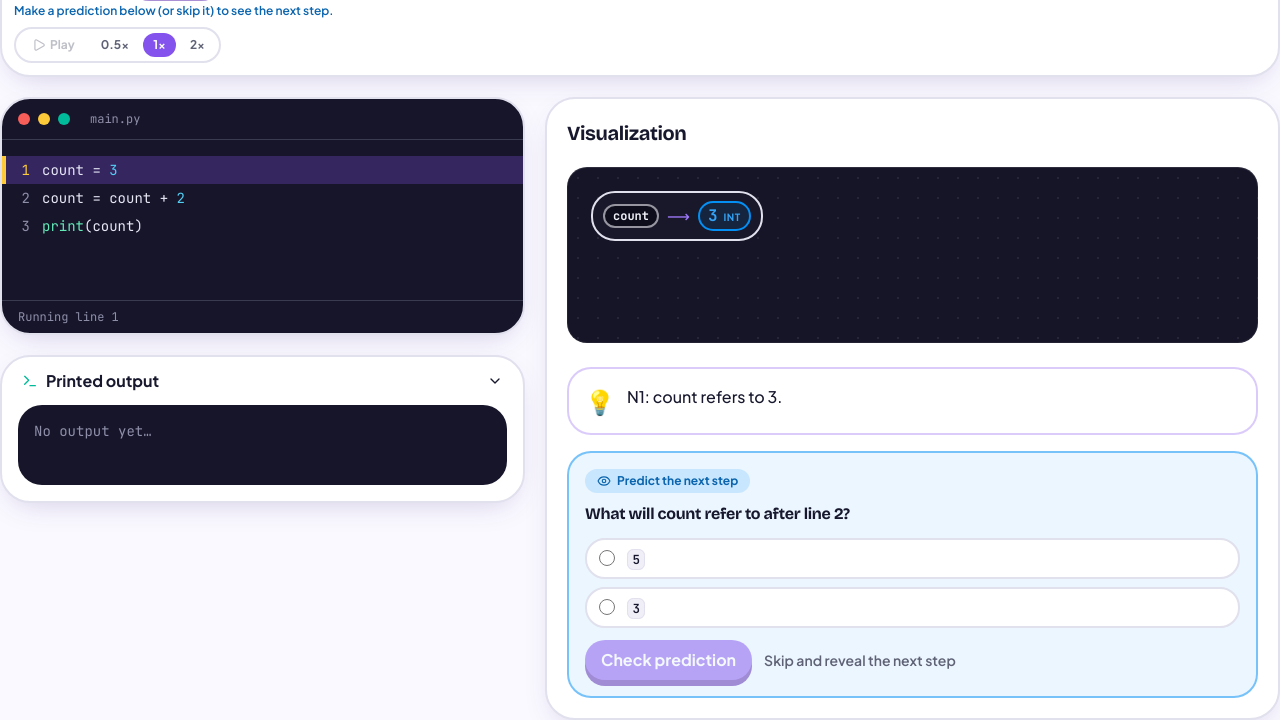
predictions inside a walkthrough › can be skipped deliberately, so nobody gets stuck
This screenshot has width=1280, height=720.
(page scrolled)
Click the button "Skip and reveal the next step".
click(860, 660)  # box [764,650,956,670]
(page scrolled)
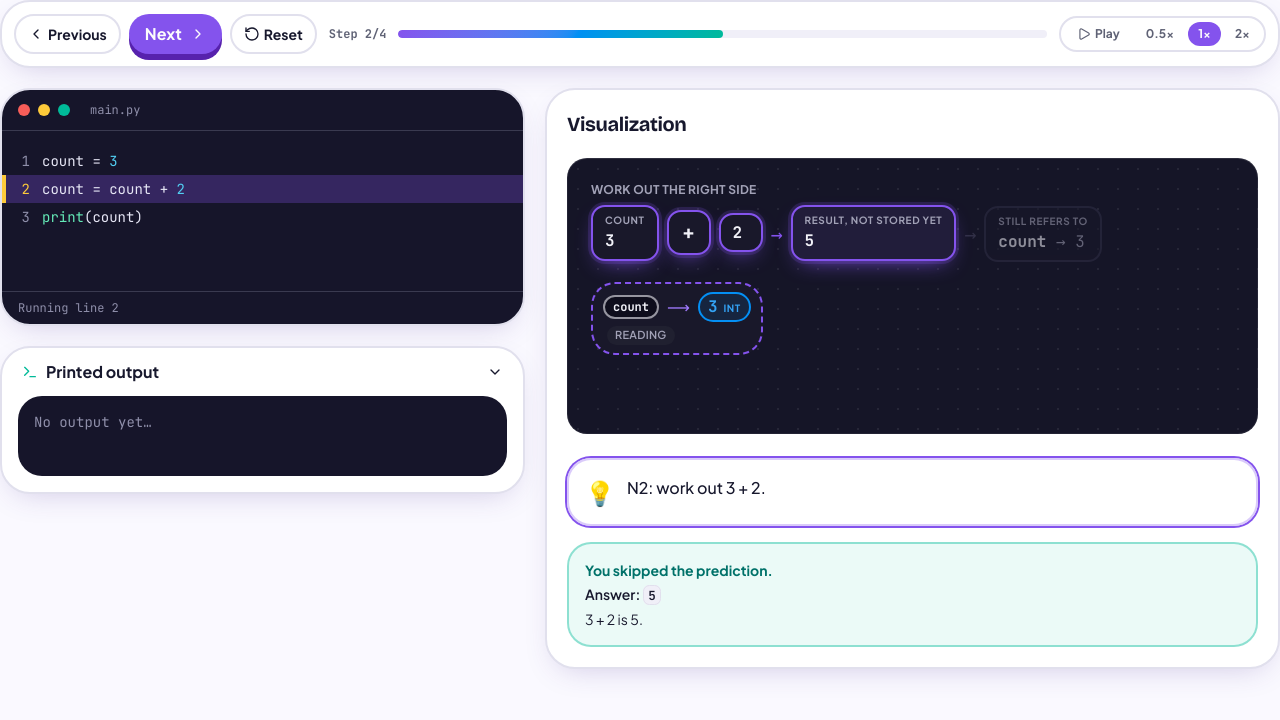
Check: the text "N2: work out 3 + 2." is shown, box [627,476,766,500]
Check: the text "You skipped the prediction." is shown, box [585,561,773,579]
Check: the button named "Next step" is enabled, box [129,14,222,54]
